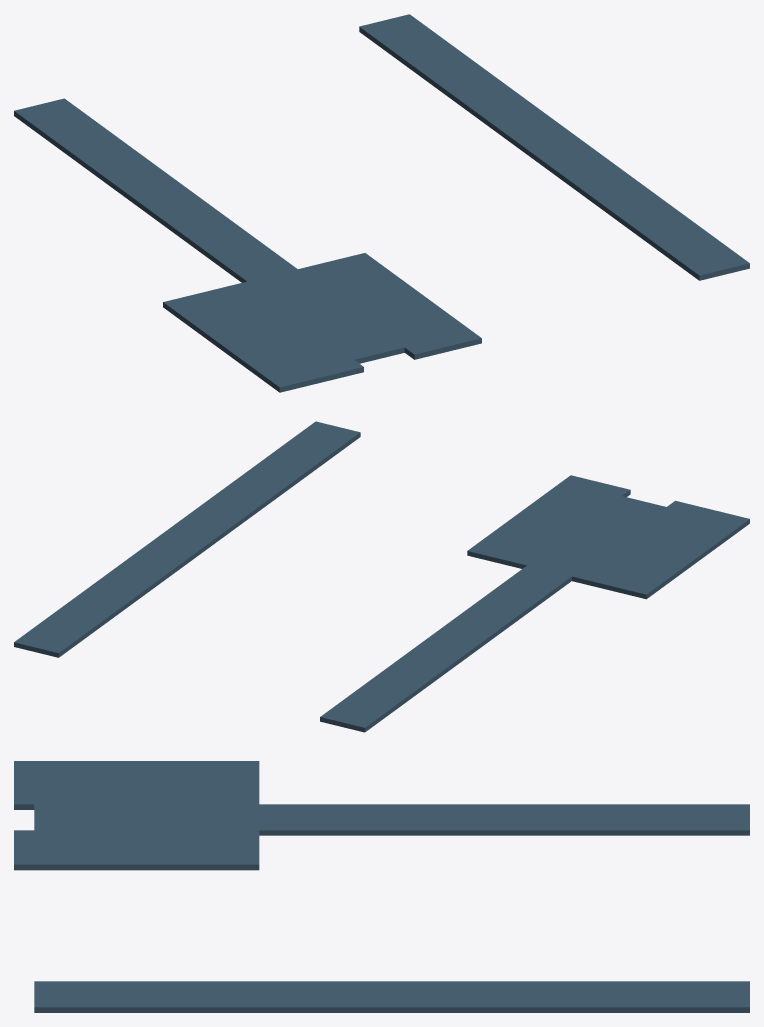
The model's file is v02-02-04-deck.glb.
3 renders of one model, top to bottom at view 1: azimuth 30°, elevation 25°; view 2: azimuth 150°, elevation 25°; view 3: azimuth 270°, elevation 25°, orthographic. The views are drawn at different scales.
Parts seen in each view (by area): view 1: v02-02-04-deck; view 2: v02-02-04-deck; view 3: v02-02-04-deck.
Boxes of the visible parts, x1,y1,x2,y2 form: v02-02-04-deck: (14,14,749,392); v02-02-04-deck: (14,421,749,732); v02-02-04-deck: (14,761,749,1012).
Size of the model in its own units: 57 by 0.6 by 72.
